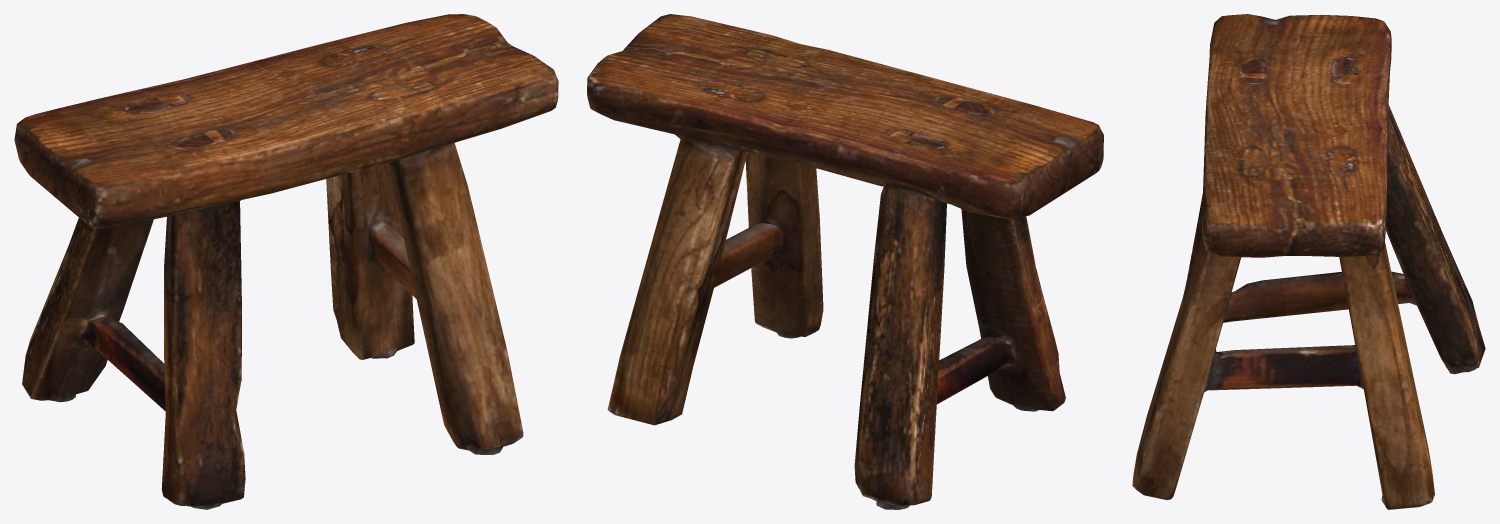
The model's file is wooden_stool_02.glb.
3 views of the same model, side by side, from view 1: azimuth 30°, elevation 25°; view 2: azimuth 150°, elevation 25°; view 3: azimuth 270°, elevation 25° (orthographic). The views are drawn at different scales.
Visible parts, largest first — view 1: wooden_stool_02; view 2: wooden_stool_02; view 3: wooden_stool_02.
Part boxes in pixels (x1,y1,x2,y2): wooden_stool_02: (14, 14, 558, 509); wooden_stool_02: (587, 14, 1103, 509); wooden_stool_02: (1132, 14, 1485, 509).
Bounding box in the file's own units: 0.2648 × 0.1813 × 0.1831.
1 material, 1 textured.
